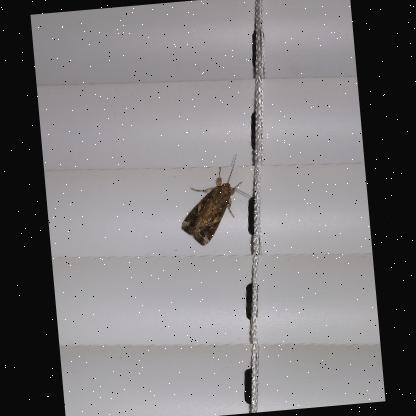Fall Armyworm Moth: (174, 150, 258, 248)
